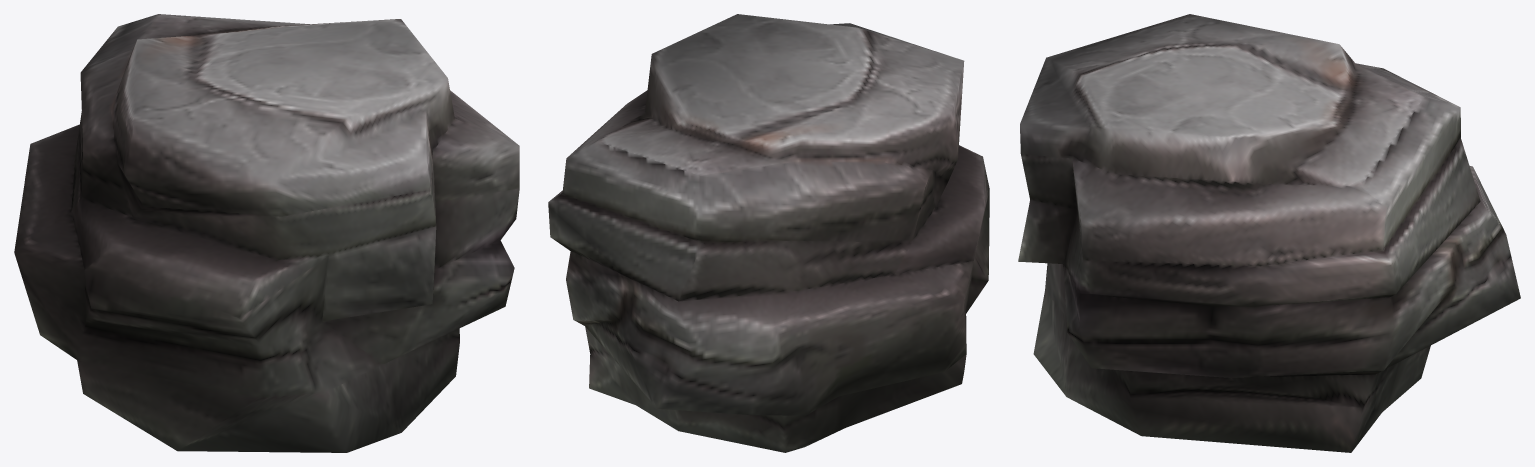
File: Mid 2.fbx
3 views of the same model, side by side, from view 1: azimuth 30°, elevation 25°; view 2: azimuth 150°, elevation 25°; view 3: azimuth 270°, elevation 25° (orthographic). The views are drawn at different scales.
Visible parts, largest first — view 1: Mid_2; view 2: Mid_2; view 3: Mid_2.
Boxes of the visible parts, box(x1,y1,x2,y2) form: Mid_2: box(14, 14, 519, 452); Mid_2: box(548, 14, 989, 452); Mid_2: box(1018, 14, 1520, 452).
Bounding box in the file's own units: 374 × 286 × 420.
